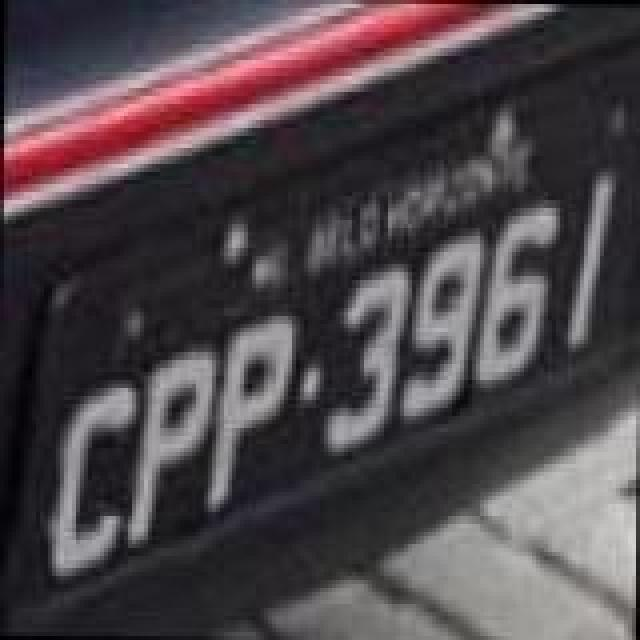1: (564, 164, 620, 348)
3: (322, 260, 414, 460)
6: (470, 200, 562, 392)
9: (394, 230, 486, 426)
C: (46, 384, 138, 584)
P: (120, 342, 216, 554), (200, 312, 296, 520)
